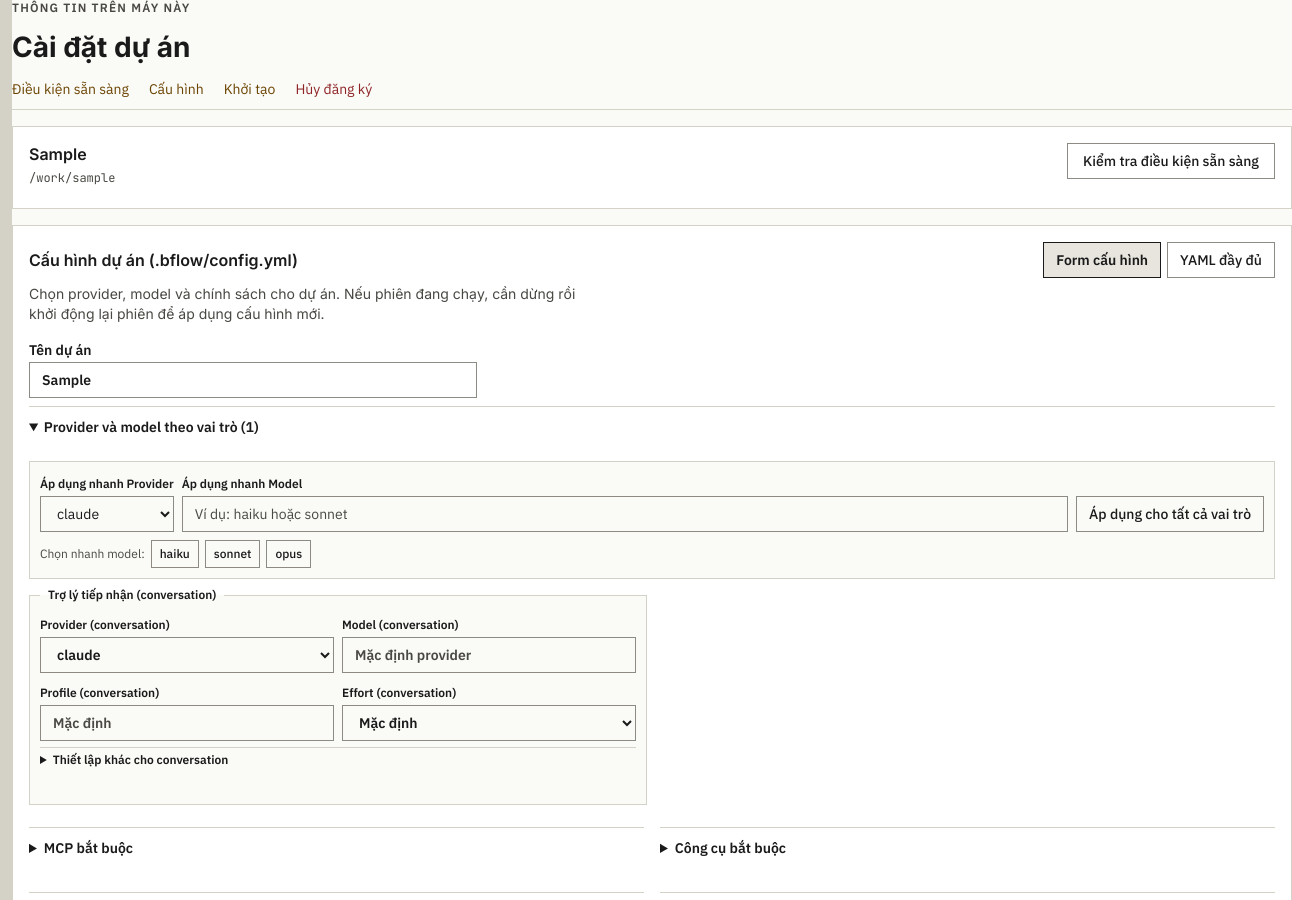
Test: saves role models through forms and surfaces server validation errors
Type "haiku" into the field labelled "Model (conversation)" at [489, 655], box [342,637,636,673]
(page scrolled)
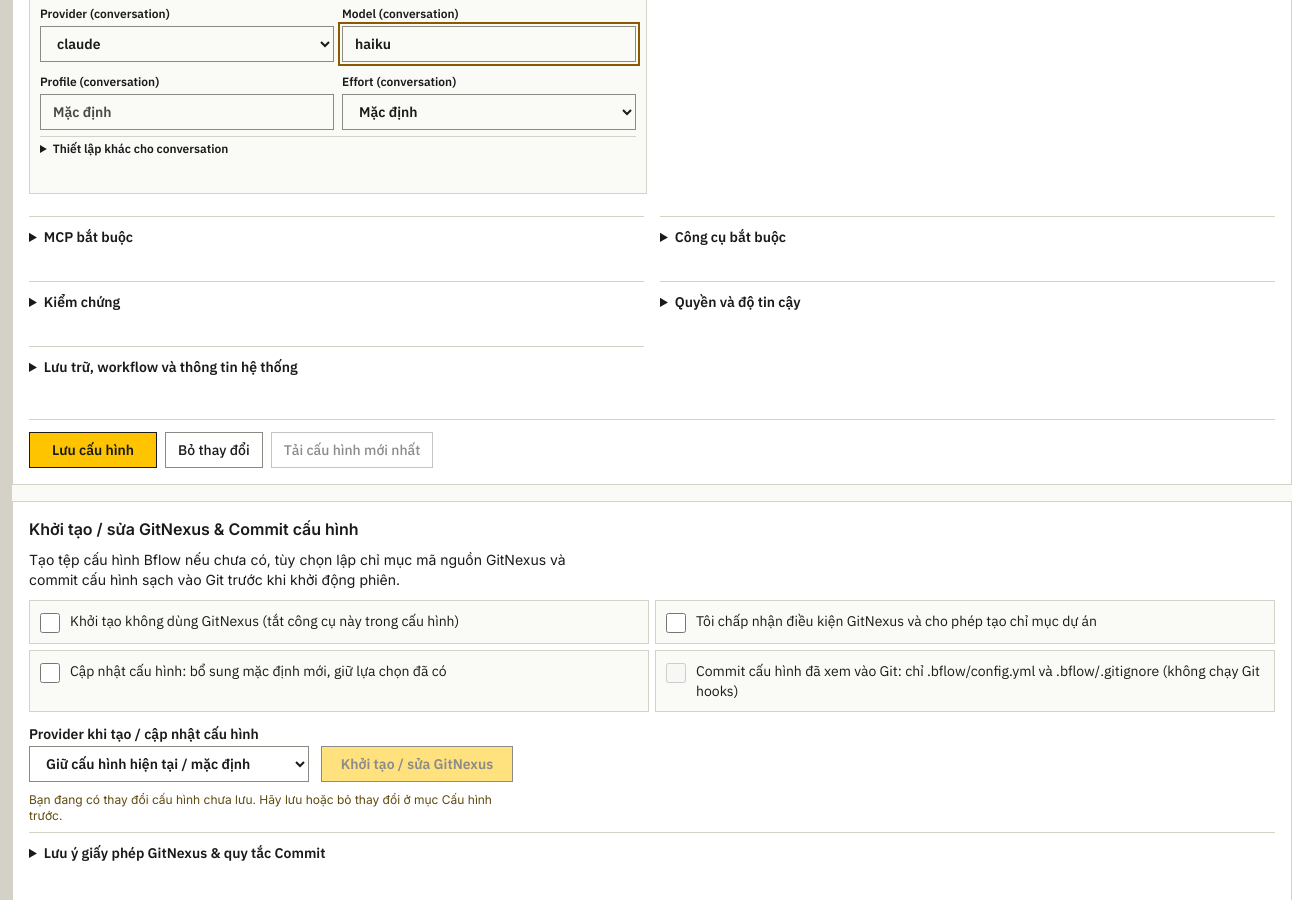
Click the button "Lưu cấu hình" at [93, 450], box [29,432,157,468]
(page scrolled)
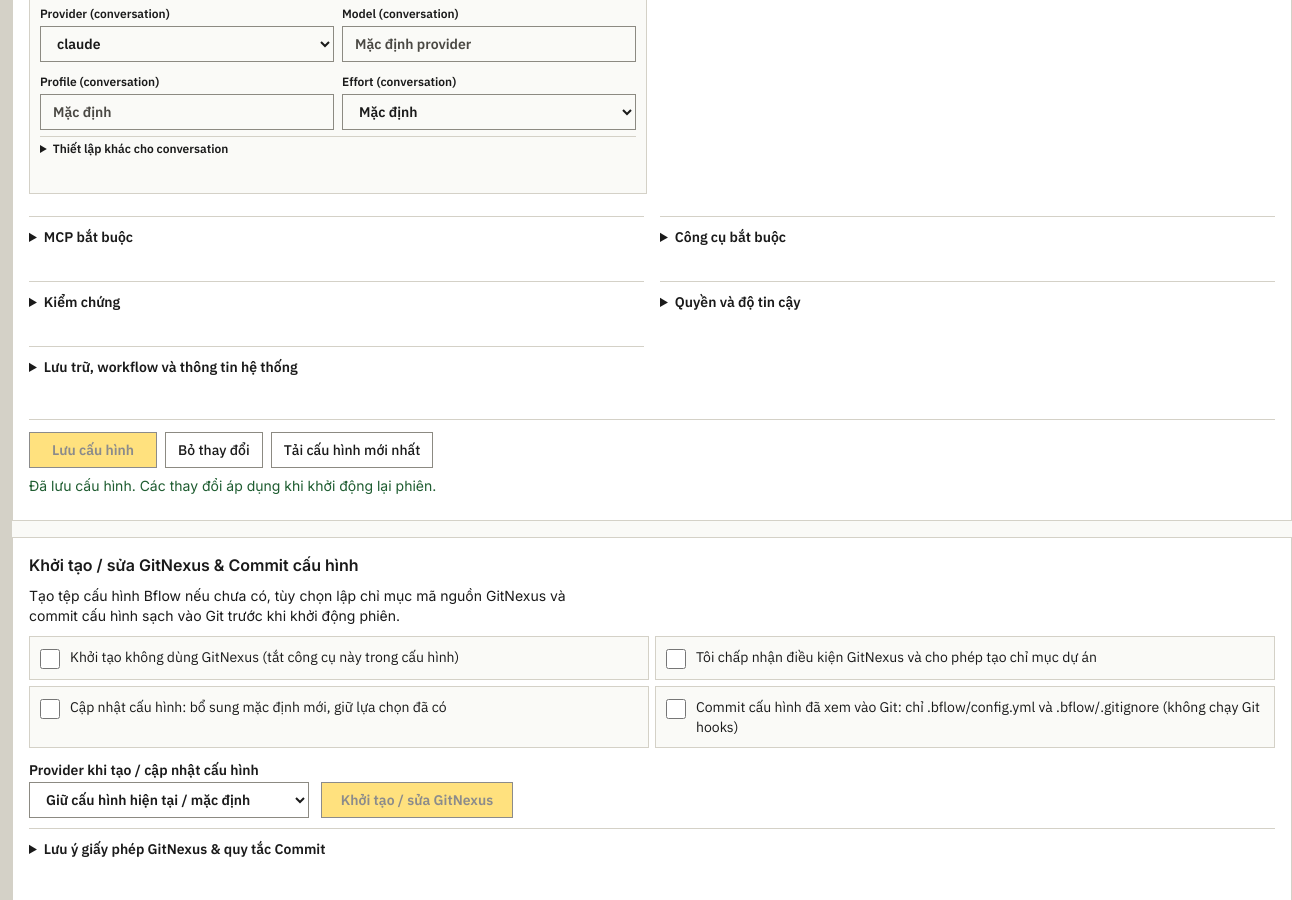
Check: the text "Đã lưu cấu hình. Các thay đổi áp dụng khi khởi động lại phiên." is shown, box [29,477,436,494]
